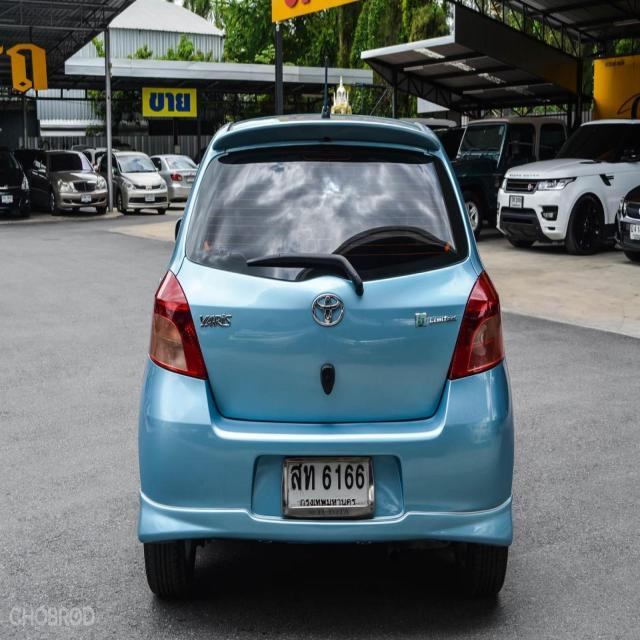license_plate: (280, 452, 378, 522), (508, 192, 526, 208), (629, 219, 640, 239), (1, 192, 13, 206), (80, 193, 93, 205), (143, 194, 157, 204)
